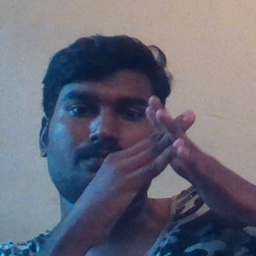W: (112, 84, 229, 207)
